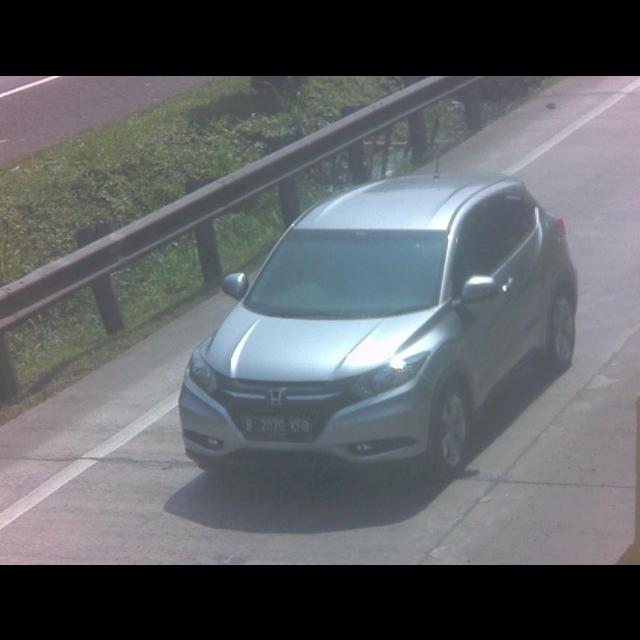plate: (240, 412, 314, 440)
